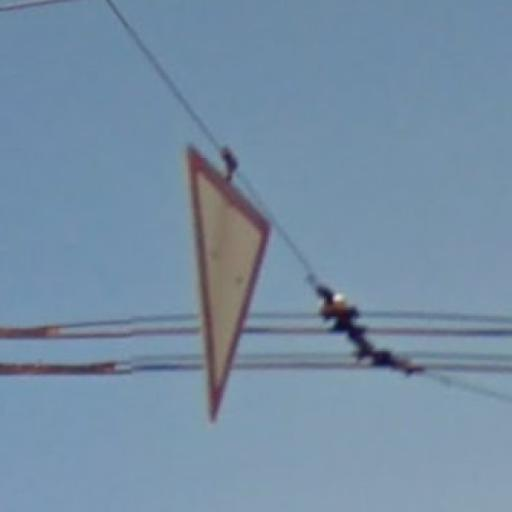traffic_sign: (186, 146, 275, 424)
